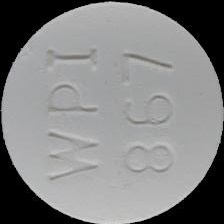50090-1150: (0, 0, 224, 224)
